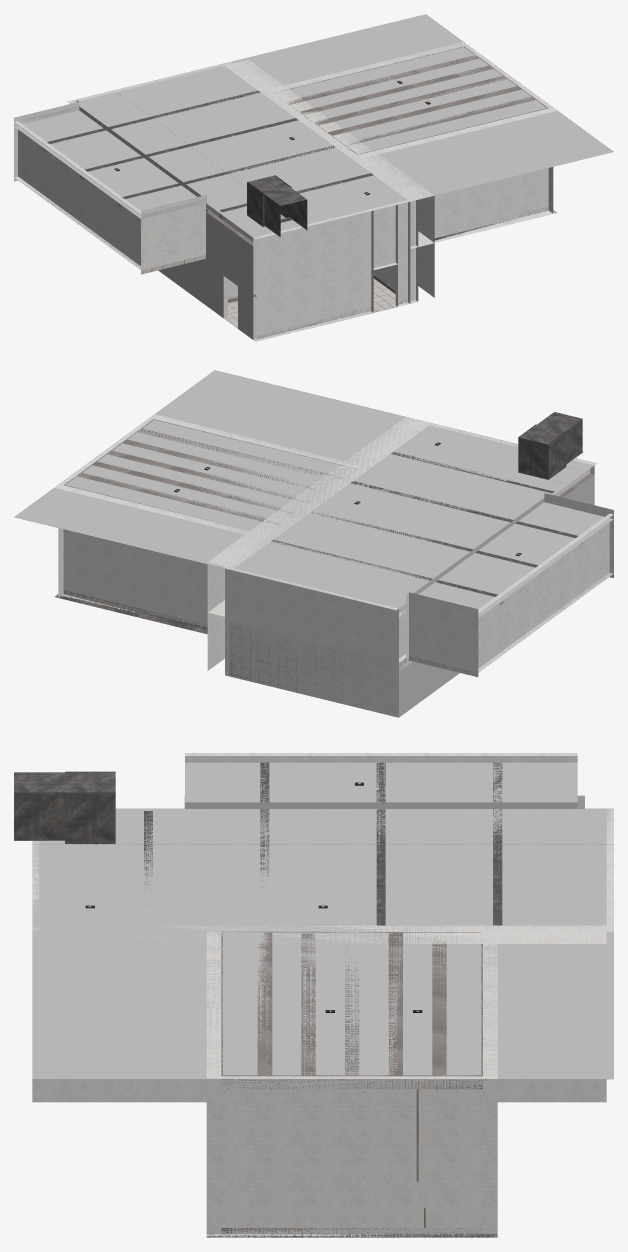
3 renders of one model, top to bottom at view 1: azimuth 30°, elevation 25°; view 2: azimuth 150°, elevation 25°; view 3: azimuth 270°, elevation 25°, orthographic. The views are drawn at different scales.
Visible parts, largest first — view 1: classname=brush; view 2: classname=brush; view 3: classname=brush.
Part boxes in pixels (left/top/right/bottom): classname=brush: left=14, top=14, right=613, bottom=341; classname=brush: left=14, top=370, right=613, bottom=717; classname=brush: left=14, top=753, right=613, bottom=1237.
Bounding box in the file's own units: 332800 × 108000 × 264000.
